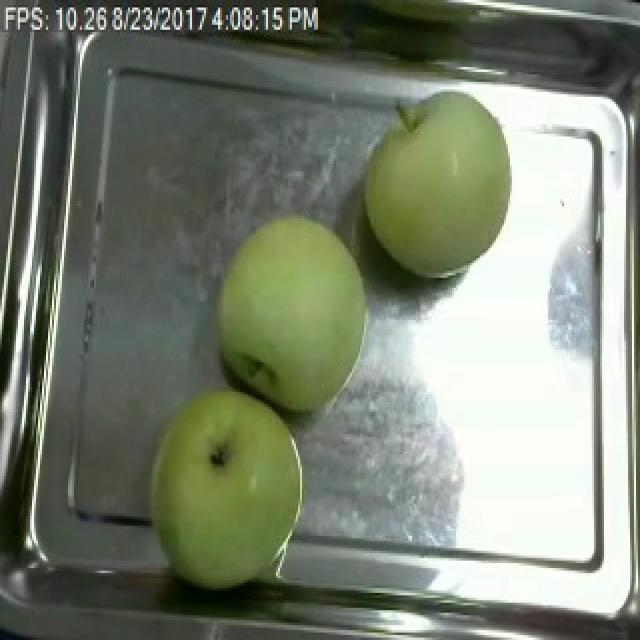50-_ripeness: (139, 394, 322, 602), (213, 208, 378, 414), (370, 98, 512, 286)
